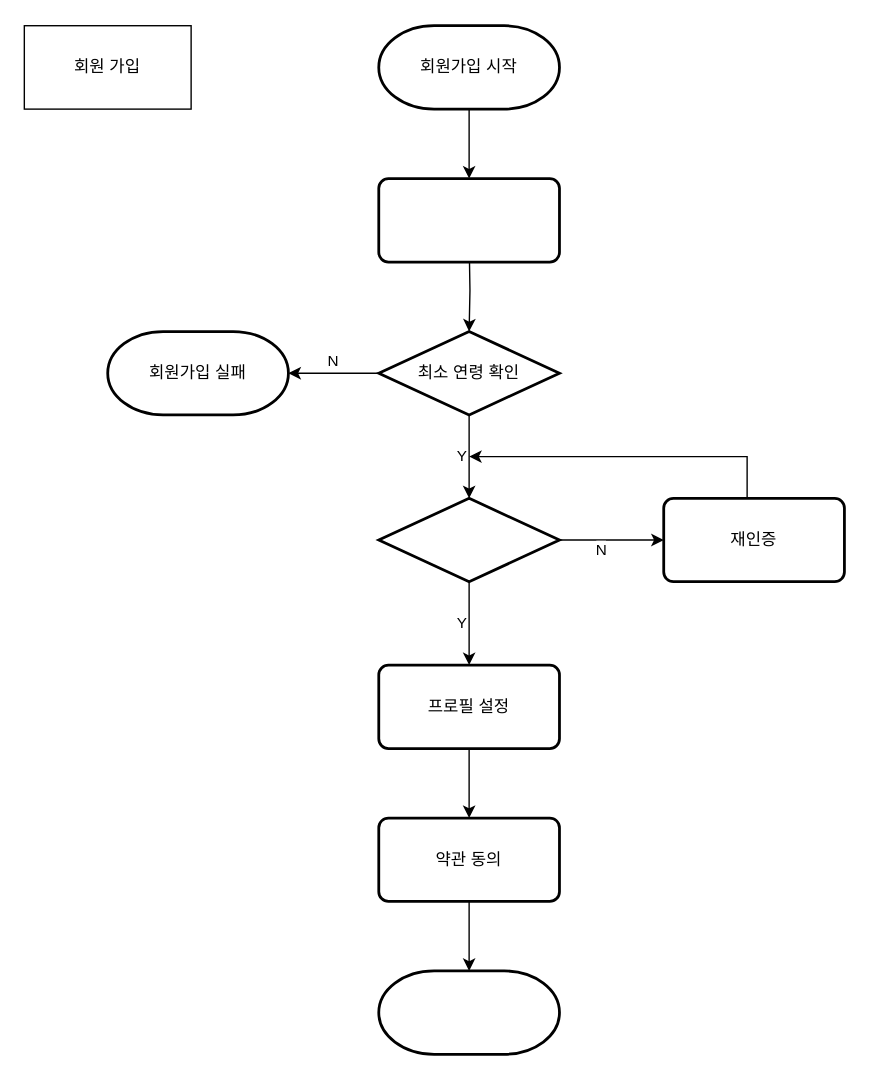
Some shapes in this 870 by 1079 pixel diagram are drawn without their labels. Here are the shapes that lost their labels. From the top down, the centre of each, then its label:
[468,220]: 동네 설정
[468,539]: 휴대폰 인증
[468,1012]: 회원가입 완료
